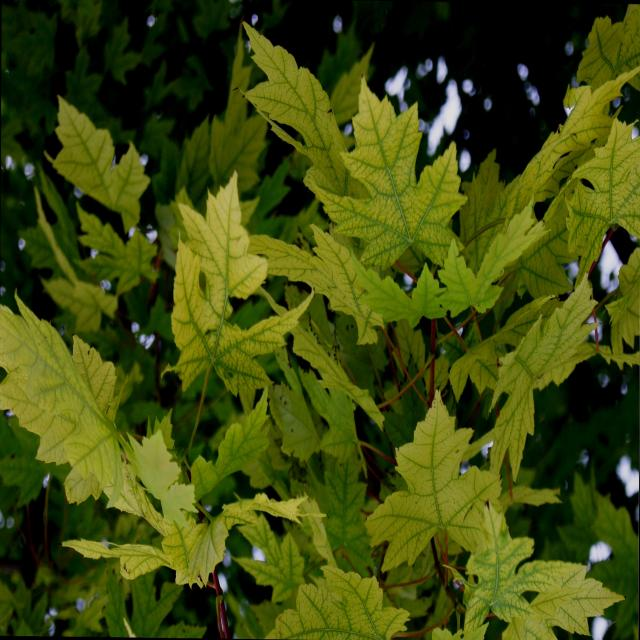Chlorosis: (18, 109, 408, 567)
